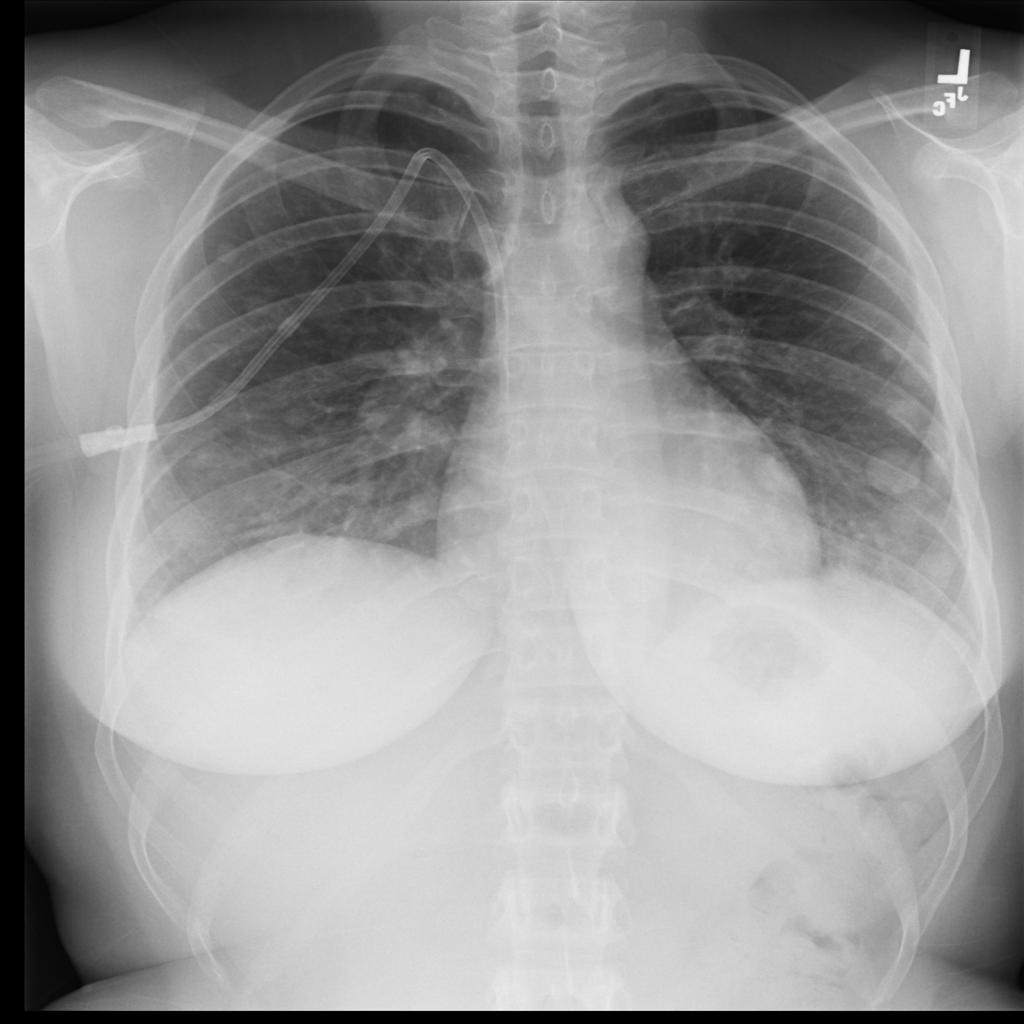nodule: (854, 439, 932, 504), (737, 446, 814, 511), (855, 311, 929, 377), (901, 540, 962, 583), (880, 380, 936, 426), (273, 394, 332, 437), (885, 493, 942, 537), (200, 228, 254, 274)
